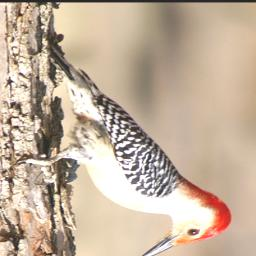Woodpecker: (12, 42, 238, 256)
